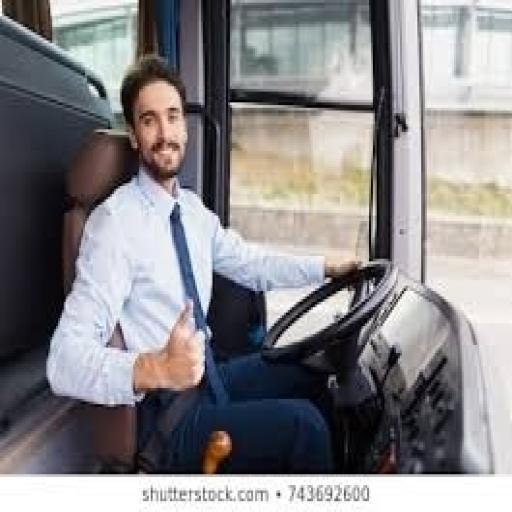sitting: (45, 51, 365, 472)
